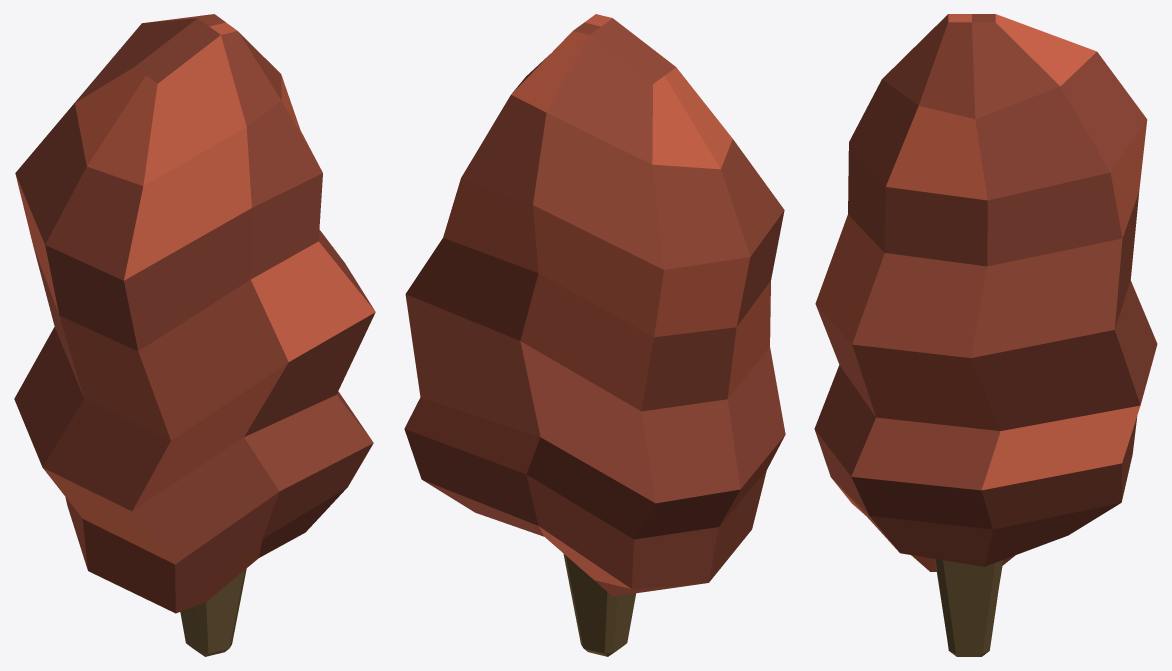
File: Tree_2_Red.fbx
The picture shows the model from 3 angles, left to right: view 1: azimuth 30°, elevation 25°; view 2: azimuth 150°, elevation 25°; view 3: azimuth 270°, elevation 25°; orthographic projection. The views are drawn at different scales.
Visible parts, largest first — view 1: Tree_2_Red_Part_2, Tree_2_Red_Part_3, Tree_2_Red_Part_1; view 2: Tree_2_Red_Part_2, Tree_2_Red_Part_3, Tree_2_Red_Part_1; view 3: Tree_2_Red_Part_2, Tree_2_Red_Part_3, Tree_2_Red_Part_1.
Boxes of the visible parts, x1=… form: Tree_2_Red_Part_2: x1=14, y1=14, x2=375, y2=613; Tree_2_Red_Part_3: x1=15, y1=14, x2=375, y2=613; Tree_2_Red_Part_1: x1=180, y1=568, x2=246, y2=656; Tree_2_Red_Part_2: x1=404, y1=18, x2=785, y2=596; Tree_2_Red_Part_3: x1=404, y1=14, x2=784, y2=588; Tree_2_Red_Part_1: x1=563, y1=553, x2=635, y2=656; Tree_2_Red_Part_2: x1=814, y1=14, x2=1157, y2=566; Tree_2_Red_Part_3: x1=815, y1=14, x2=1147, y2=571; Tree_2_Red_Part_1: x1=935, y1=559, x2=1003, y2=656.
Bounding box in the file's own units: 237 × 483 × 235.
